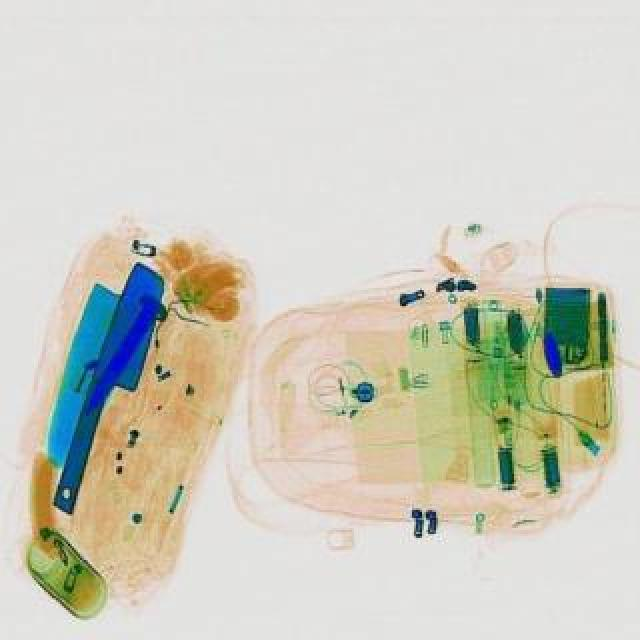knife: (44, 256, 176, 520)
